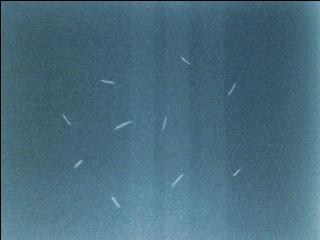scratch: (224, 76, 239, 99), (154, 115, 171, 134), (169, 171, 186, 189), (113, 120, 133, 130), (70, 157, 84, 170), (179, 55, 193, 68), (110, 194, 122, 209), (98, 77, 117, 86), (229, 165, 242, 177), (61, 113, 72, 127)
